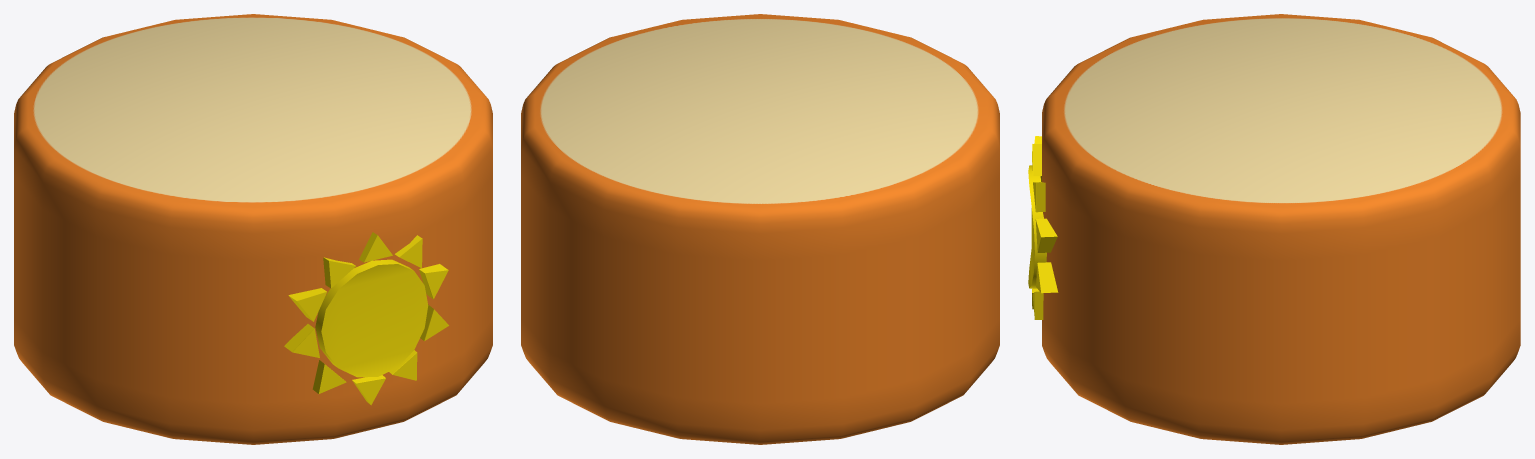
3 renders of one model, left to right at view 1: azimuth 30°, elevation 25°; view 2: azimuth 150°, elevation 25°; view 3: azimuth 270°, elevation 25°, orthographic.
Visible parts, largest first — view 1: WoodBlock3; view 2: WoodBlock3; view 3: WoodBlock3.
Part boxes in pixels (x1,y1,x2,y2): WoodBlock3: (14, 14, 492, 444); WoodBlock3: (521, 14, 999, 444); WoodBlock3: (1028, 14, 1520, 444).
Size of the model in its own units: 809 by 436 by 819.
1 material, 1 textured.
